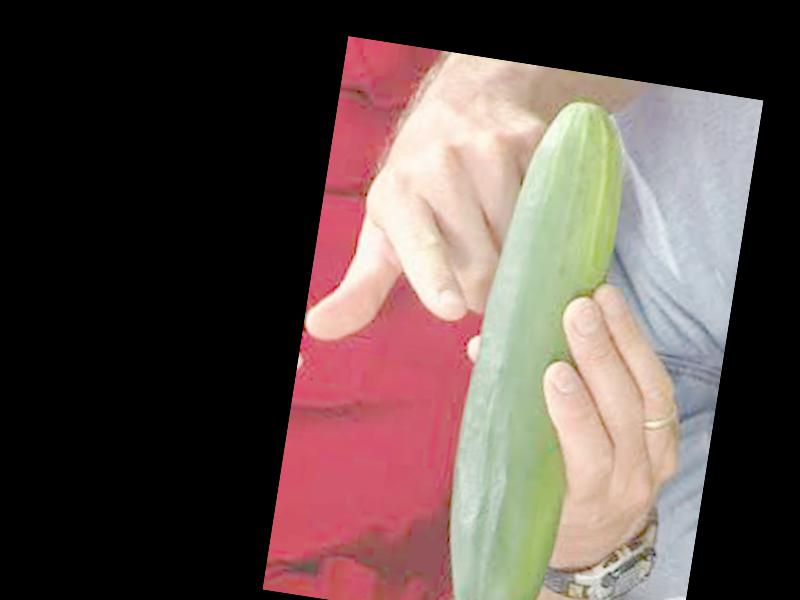Cucumber: (431, 90, 637, 600)
